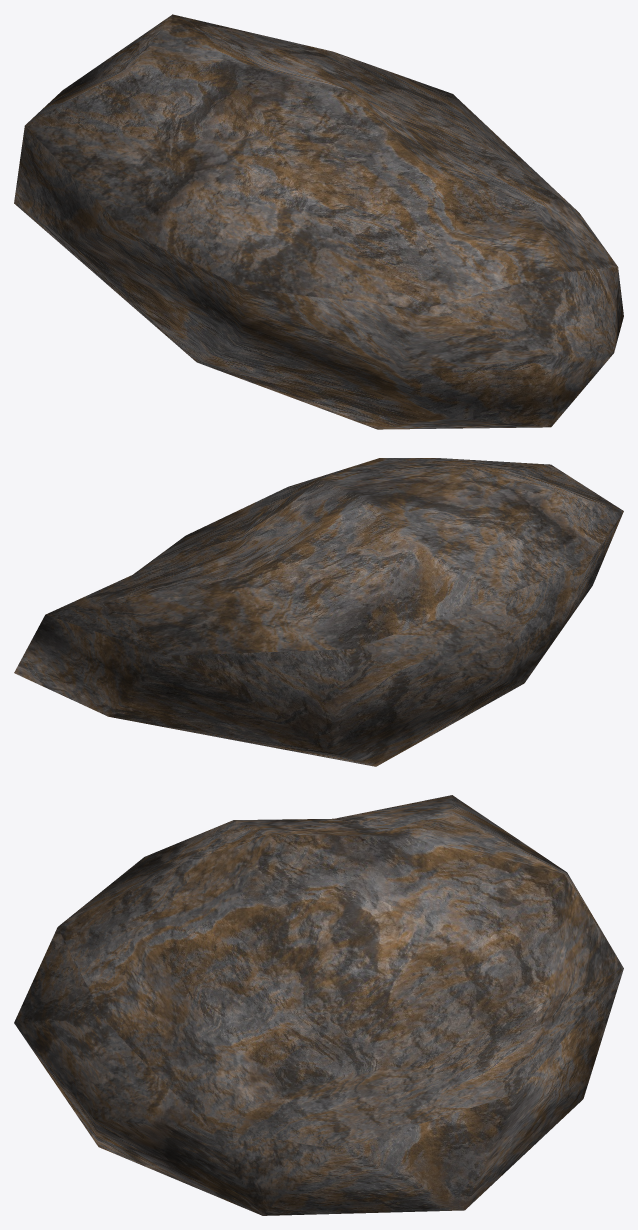
File: rock2.obj
The picture shows the model from 3 angles, top to bottom: view 1: azimuth 30°, elevation 25°; view 2: azimuth 150°, elevation 25°; view 3: azimuth 270°, elevation 25°; orthographic projection. The views are drawn at different scales.
Parts seen in each view (by area): view 1: Icosphere; view 2: Icosphere; view 3: Icosphere.
Boxes of the visible parts, x1=… form: Icosphere: x1=14, y1=14, x2=623, y2=429; Icosphere: x1=14, y1=458, x2=623, y2=766; Icosphere: x1=14, y1=795, x2=623, y2=1215.
Size of the model in its own units: 2.13 by 1.16 by 2.37.
